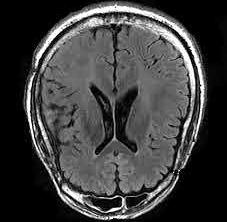Normal_Brain: (1, 1, 227, 222)
